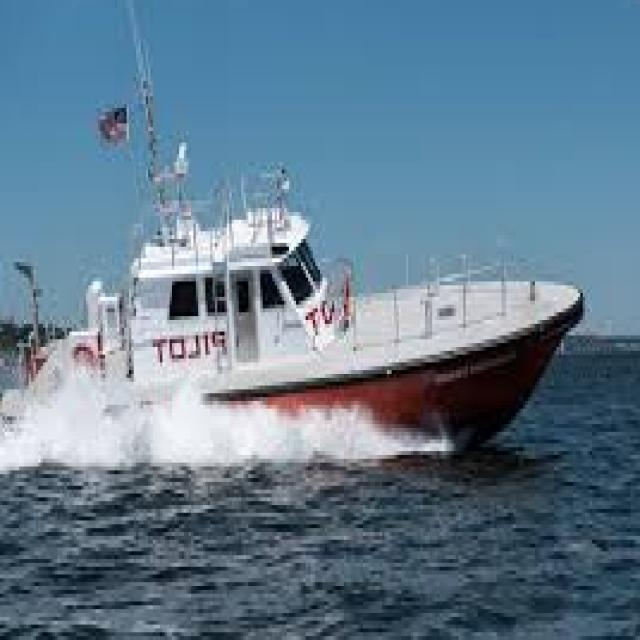houseboat: (0, 135, 585, 478)
